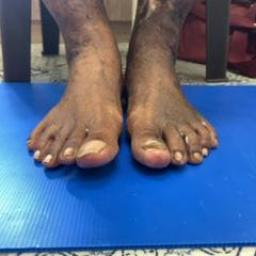Front View -Both Feet-: (15, 11, 245, 196)
